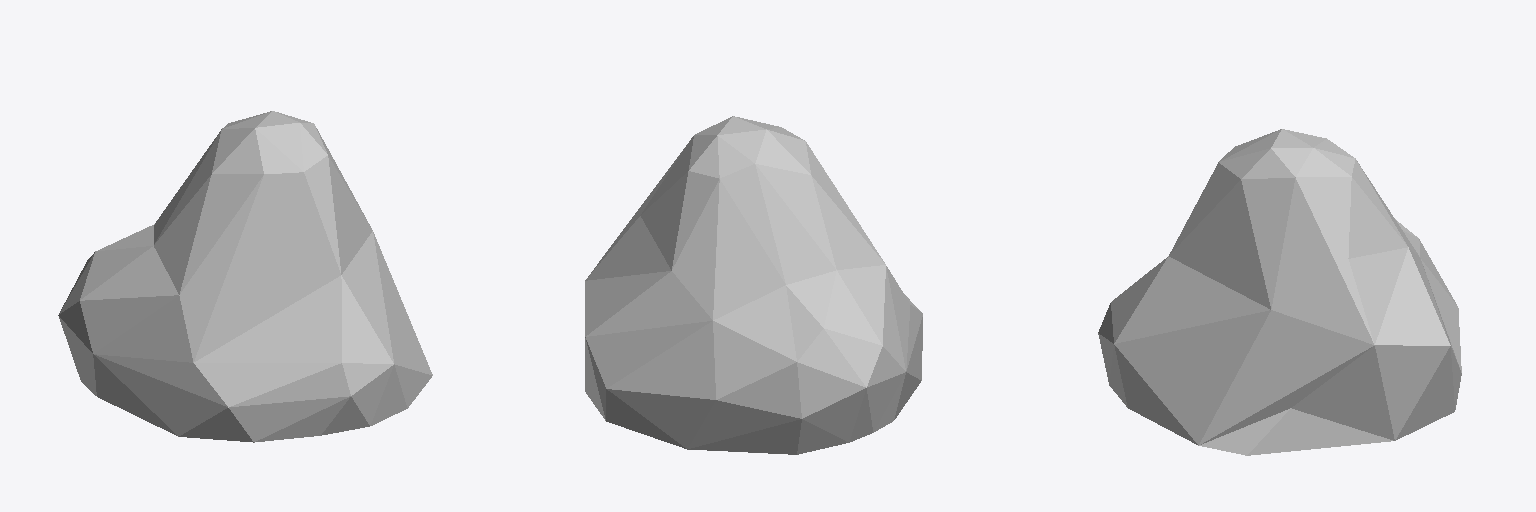
The model's file is stone42.obj.
The picture shows the model from 3 angles: view 1: azimuth 30°, elevation 25°; view 2: azimuth 150°, elevation 25°; view 3: azimuth 270°, elevation 25°; orthographic projection.
Parts seen in each view (by area): view 1: stone4_Group1.003; view 2: stone4_Group1.003; view 3: stone4_Group1.003.
Part boxes in pixels (x1,y1,x2,y2): stone4_Group1.003: (58, 111, 432, 442); stone4_Group1.003: (585, 116, 922, 454); stone4_Group1.003: (1098, 129, 1461, 455).
Bounding box in the file's own units: 2.75 × 2.22 × 2.88.